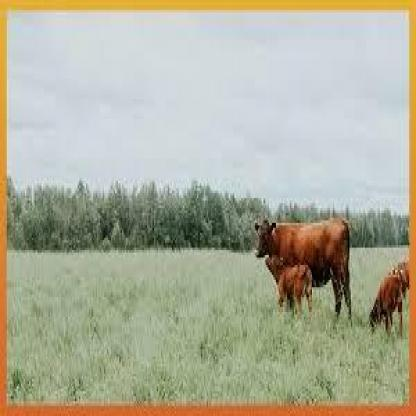cow: (254, 217, 352, 323), (276, 262, 313, 320), (369, 276, 403, 338)
